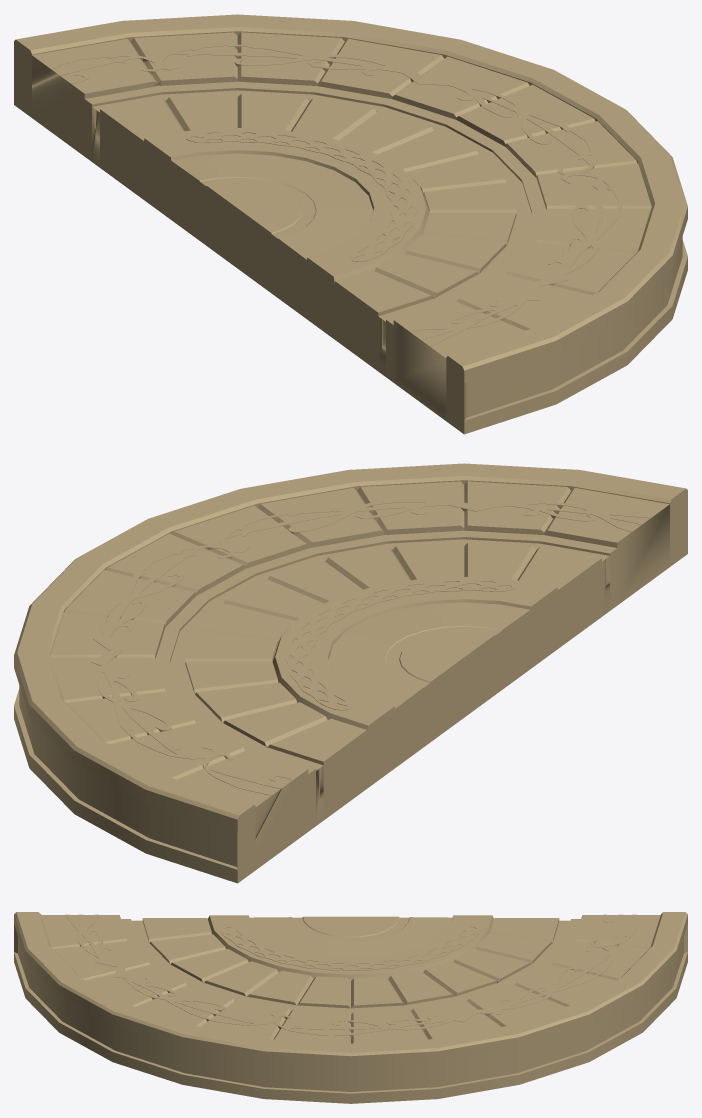
The model's file is Balconies-1.fbx.
The picture shows the model from 3 angles, top to bottom: view 1: azimuth 30°, elevation 25°; view 2: azimuth 150°, elevation 25°; view 3: azimuth 270°, elevation 25°; orthographic projection. The views are drawn at different scales.
Parts seen in each view (by area): view 1: Balconies-1; view 2: Balconies-1; view 3: Balconies-1.
Boxes of the visible parts, bbox=[...] form: Balconies-1: bbox=[14, 14, 687, 434]; Balconies-1: bbox=[14, 463, 687, 883]; Balconies-1: bbox=[14, 912, 687, 1103].
Size of the model in its own units: 712 by 117 by 1428.
